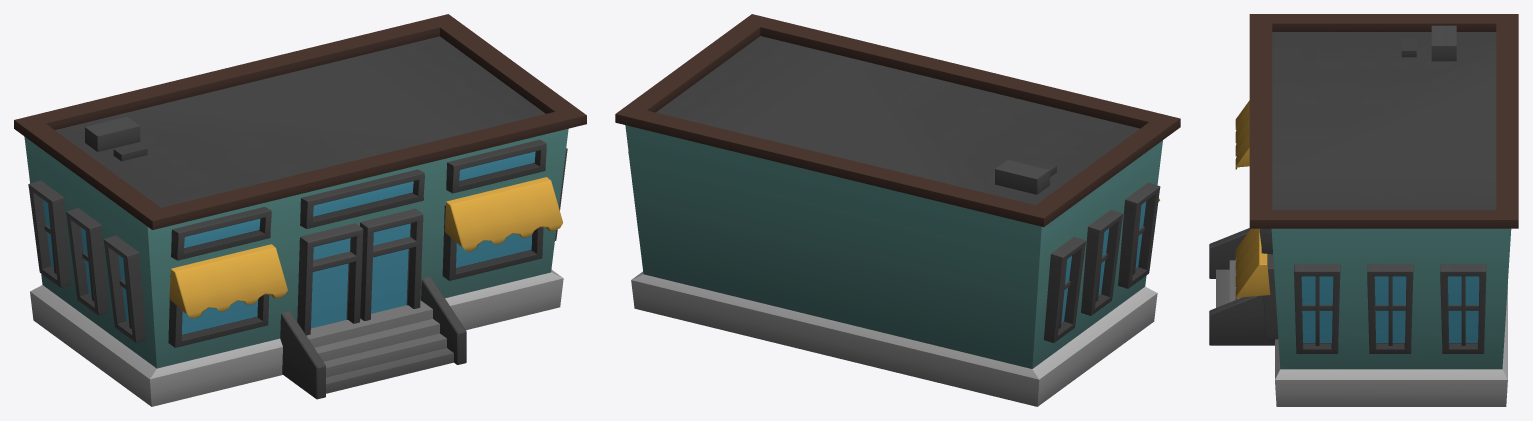
The model's file is building_06.fbx.
3 renders of one model, left to right at view 1: azimuth 30°, elevation 25°; view 2: azimuth 150°, elevation 25°; view 3: azimuth 270°, elevation 25°, orthographic. The views are drawn at different scales.
Visible parts, largest first — view 1: Building_06; view 2: Building_06; view 3: Building_06.
Part boxes in pixels (x1,y1,x2,y2): Building_06: (14, 14, 586, 406); Building_06: (615, 14, 1180, 406); Building_06: (1209, 14, 1518, 406).
Size of the model in its own units: 773 by 344 by 483.
